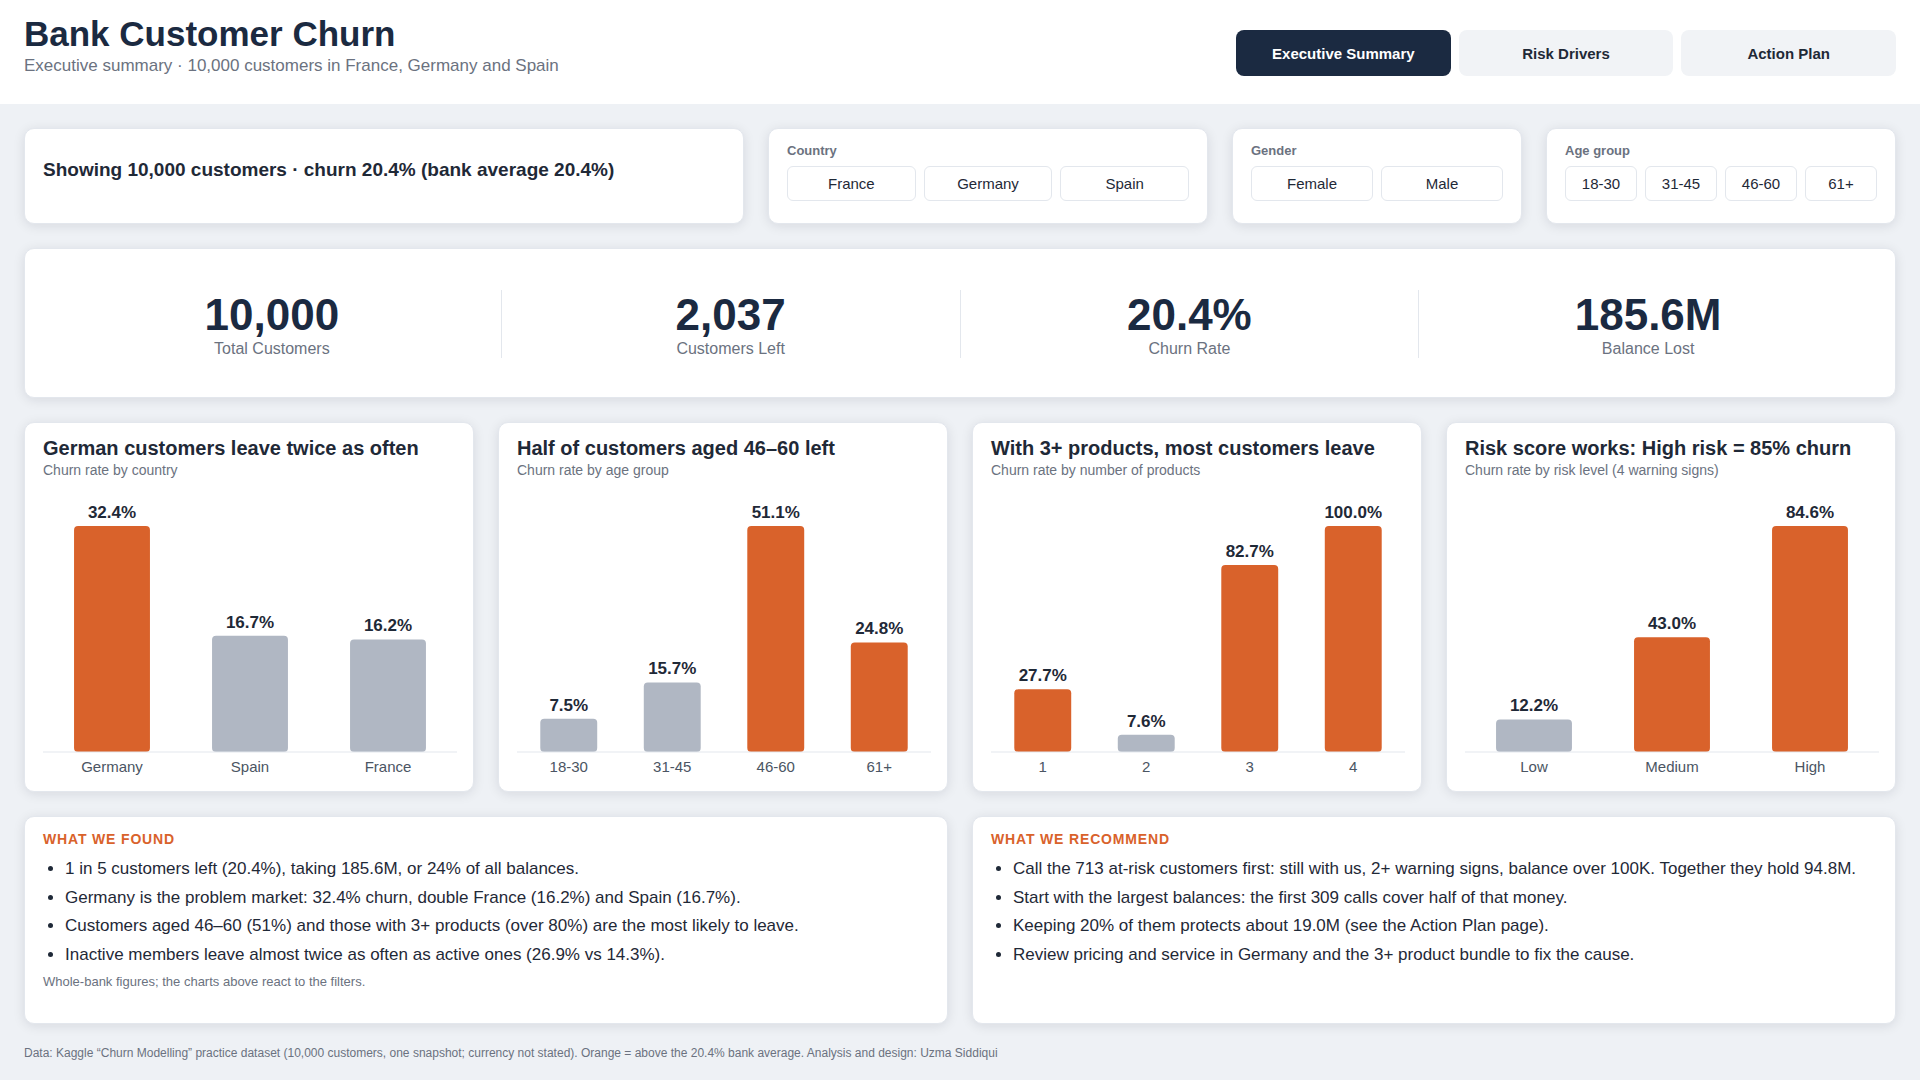

What the dashboard file says about the page in this screenshot:
{"tool":"powerbi","page":{"name":"Executive Summary","canvas":[1920,1080],"ordinal":0},"visuals":[{"type":"textbox","box":[0,0,1920,104],"z":0},{"type":"textbox","box":[24,1040,1872,34],"z":500},{"type":"cardVisual","fields":{"Data":["_Measures.Subtitle"]},"box":[24,128,720,96],"z":1000},{"type":"slicer","fields":{"Values":["Customers.Geography"]},"box":[768,128,440,96],"z":1000},{"type":"slicer","fields":{"Values":["Customers.Gender"]},"box":[1232,128,290,96],"z":1000},{"type":"slicer","fields":{"Values":["Customers.AgeGroup"]},"box":[1546,128,350,96],"z":1000},{"type":"cardVisual","fields":{"Data":["_Measures.Total Customers","_Measures.Customers Left","_Measures.Churn Rate","_Measures.Balance Lost"]},"box":[24,248,1872,150],"z":1000},{"type":"clusteredColumnChart","title":"German customers leave twice as often","fields":{"Category":["Customers.Geography"],"Y":["_Measures.Churn Rate"]},"box":[24,422,450,370],"z":2000},{"type":"clusteredColumnChart","title":"Half of customers aged 46–60 left","fields":{"Category":["Customers.AgeGroup"],"Y":["_Measures.Churn Rate"]},"box":[498,422,450,370],"z":2001},{"type":"clusteredColumnChart","title":"With 3+ products, most customers leave","fields":{"Category":["Customers.NumOfProducts"],"Y":["_Measures.Churn Rate"]},"box":[972,422,450,370],"z":2002},{"type":"clusteredColumnChart","title":"Risk score works: High risk = 85% churn","fields":{"Category":["Customers.RiskLevel"],"Y":["_Measures.Churn Rate"]},"box":[1446,422,450,370],"z":2003},{"type":"textbox","box":[24,816,924,208],"z":3000},{"type":"textbox","box":[972,816,924,208],"z":3001},{"type":"pageNavigator","box":[1236,30.8,660.5,59.7],"z":20000}]}

Visuals, with their boxes in screenshot pixels (x1, y1, x2, y2), scaled from the page's 1920x1080 canvas onto the 1920x1080 screenshot:
textbox: (left=0, top=0, right=1919, bottom=104)
textbox: (left=24, top=1040, right=1896, bottom=1074)
cardVisual - _Measures.Subtitle: (left=24, top=128, right=744, bottom=224)
slicer - Customers.Geography: (left=768, top=128, right=1208, bottom=224)
slicer - Customers.Gender: (left=1232, top=128, right=1522, bottom=224)
slicer - Customers.AgeGroup: (left=1546, top=128, right=1896, bottom=224)
cardVisual - _Measures.Total Customers x _Measures.Customers Left: (left=24, top=248, right=1896, bottom=398)
"German customers leave twice as often" clusteredColumnChart: (left=24, top=422, right=474, bottom=792)
"Half of customers aged 46–60 left" clusteredColumnChart: (left=498, top=422, right=948, bottom=792)
"With 3+ products, most customers leave" clusteredColumnChart: (left=972, top=422, right=1422, bottom=792)
"Risk score works: High risk = 85% churn" clusteredColumnChart: (left=1446, top=422, right=1896, bottom=792)
textbox: (left=24, top=816, right=948, bottom=1024)
textbox: (left=972, top=816, right=1896, bottom=1024)
pageNavigator: (left=1236, top=31, right=1896, bottom=90)
